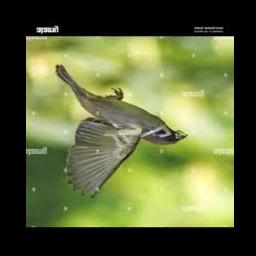Sparrow: (55, 65, 187, 198)
